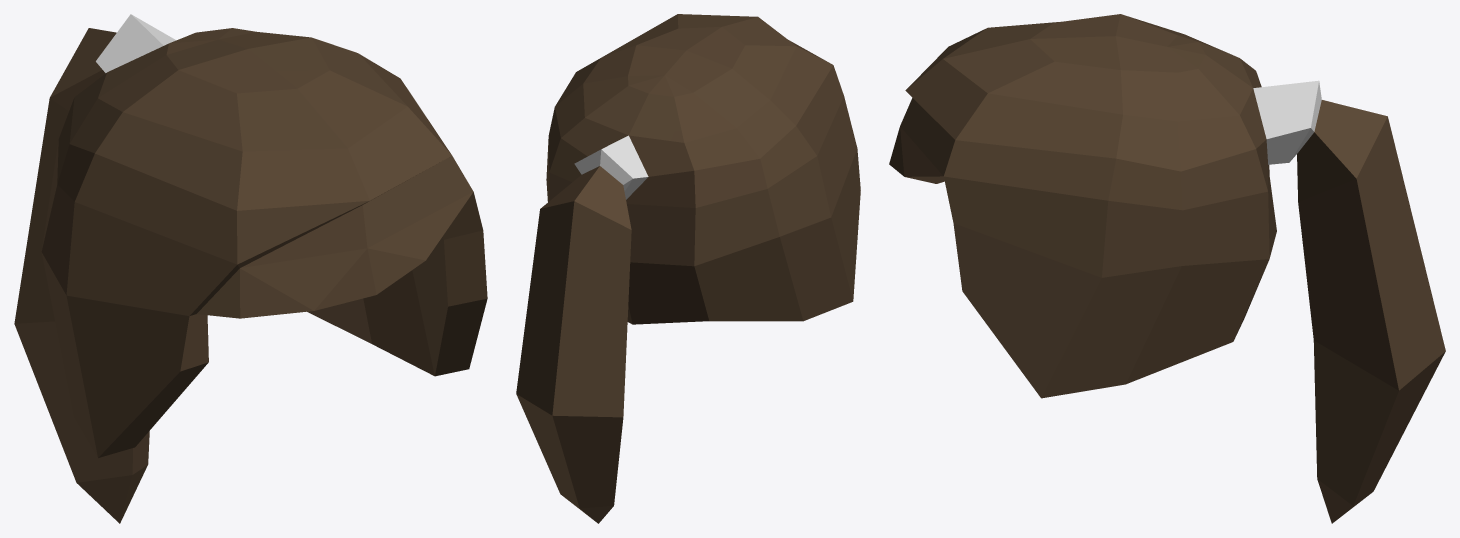
The model's file is Female_Hairstyle_4.glb.
3 views of the same model, side by side, from view 1: azimuth 30°, elevation 25°; view 2: azimuth 150°, elevation 25°; view 3: azimuth 270°, elevation 25° (orthographic). The views are drawn at different scales.
Visible parts, largest first — view 1: Female_Hairstyle_4; view 2: Female_Hairstyle_4; view 3: Female_Hairstyle_4.
Part boxes in pixels (<box>): Female_Hairstyle_4: <box>14,14,487,523</box>; Female_Hairstyle_4: <box>516,14,860,523</box>; Female_Hairstyle_4: <box>889,14,1445,523</box>.
Bounding box in the file's own units: 0.5233 × 0.7626 × 0.7869.
